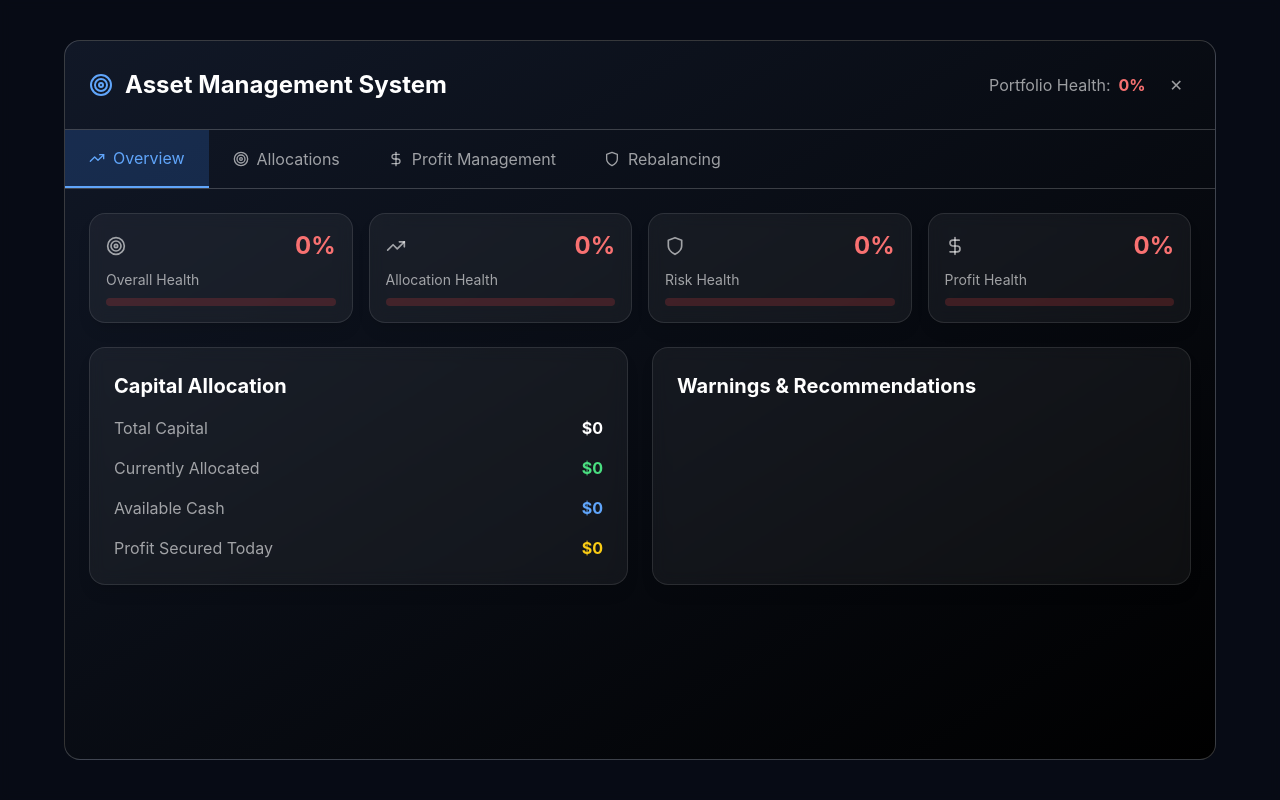
it: AssetManagerPanel › handles empty profit actions gracefully
Click the button "Profit Management".
click(472, 159)  # box x1=364 y1=130 x2=580 y2=188
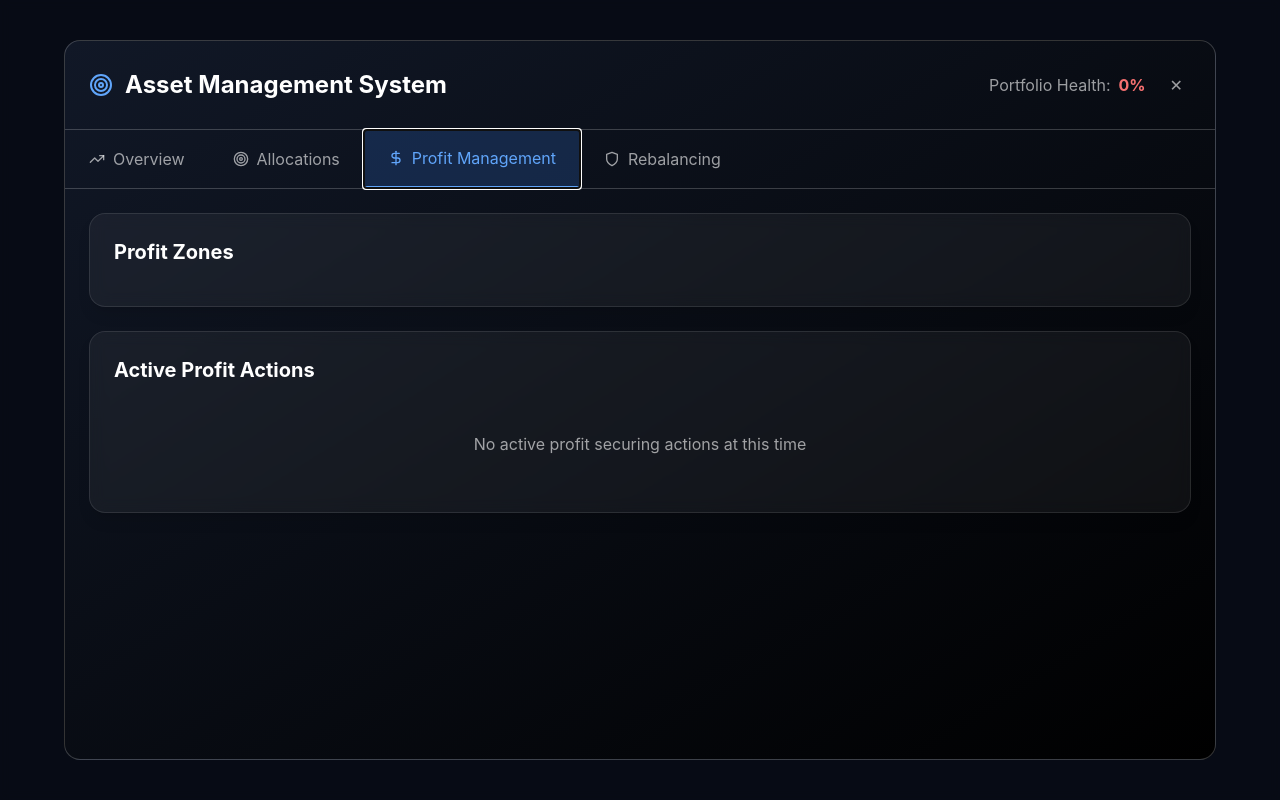
Now the text "No active profit securing actions at this time" is shown, box x1=474 y1=434 x2=806 y2=454
